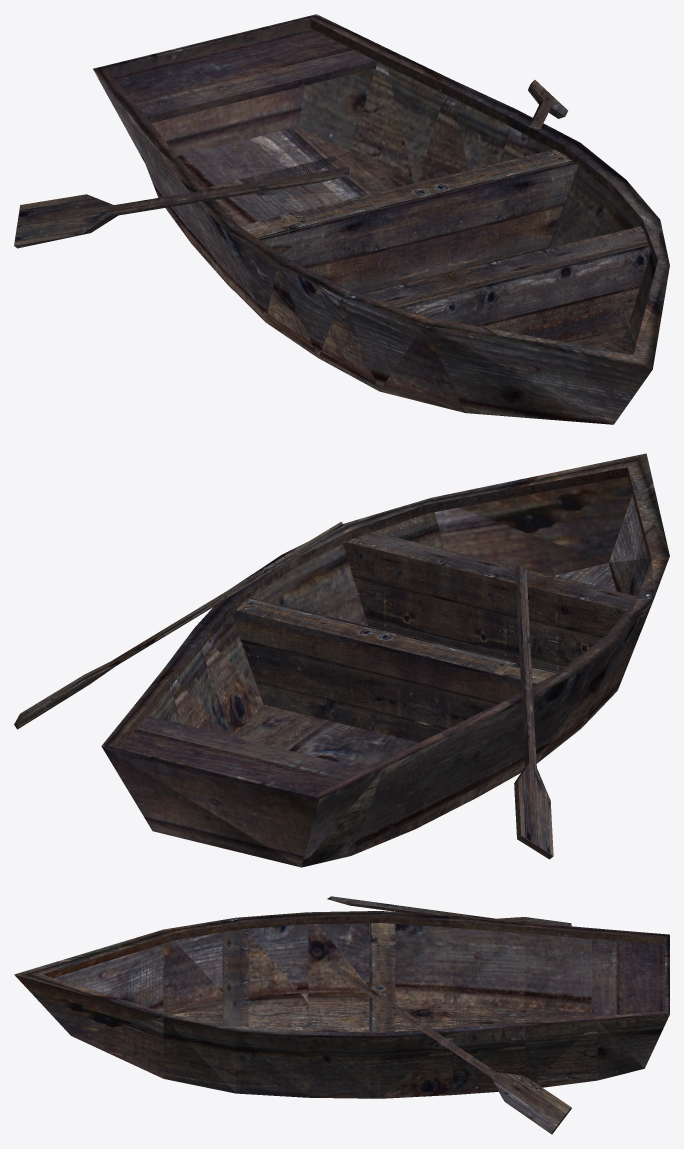
The model's file is wooden-rowboat.obj.
3 renders of one model, top to bottom at view 1: azimuth 30°, elevation 25°; view 2: azimuth 150°, elevation 25°; view 3: azimuth 270°, elevation 25°, orthographic. The views are drawn at different scales.
Parts seen in each view (by area): view 1: body, division, Paddle; view 2: body, division, Paddle; view 3: body, Paddle, division.
Boxes of the visible parts, x1,y1,x2,y2 form: body: [93, 14, 669, 424]; division: [239, 149, 650, 346]; Paddle: [14, 80, 568, 248]; body: [101, 453, 669, 867]; division: [232, 532, 637, 742]; Paddle: [14, 521, 553, 859]; body: [14, 911, 669, 1098]; Paddle: [327, 896, 571, 1134]; division: [222, 923, 395, 1032].
Size of the model in its own units: 5.74 by 1.66 by 8.04.
1 material, 1 textured.
